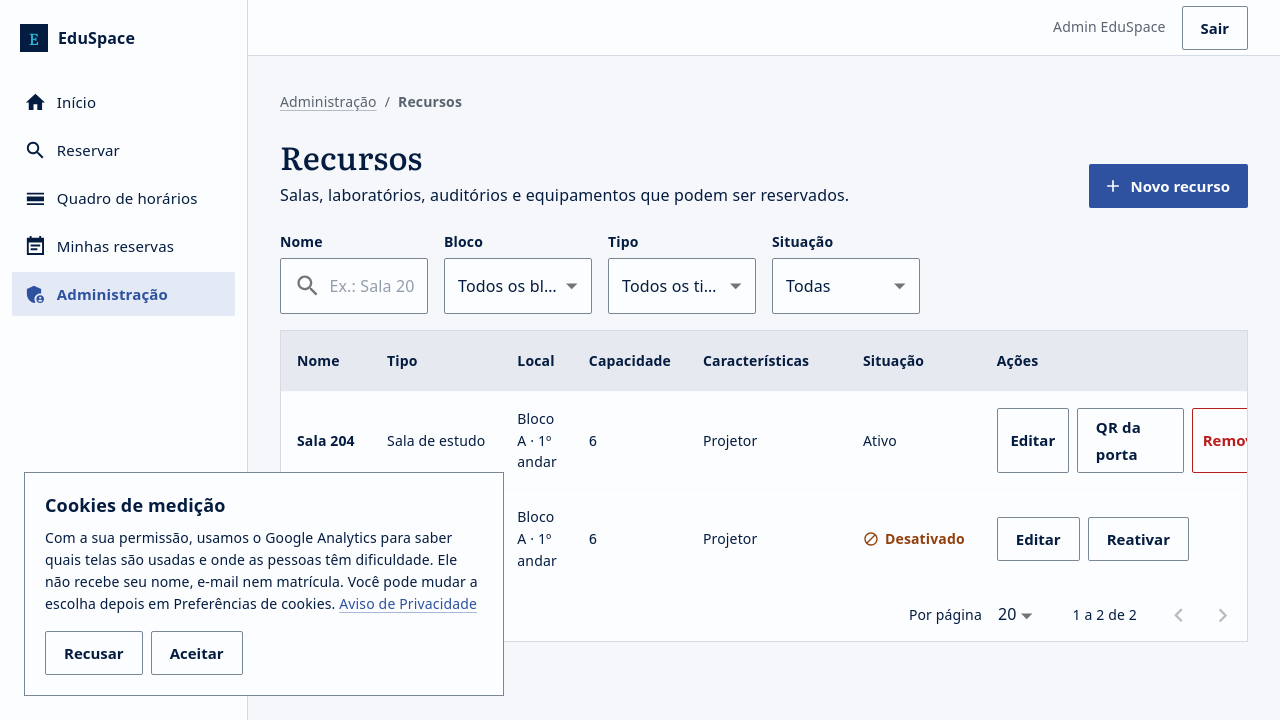
Test case: admin resources › asks before cancelling future reservations when removing
Click the button with aria-label "Remover Sala 204".
click(1236, 441)  # box x1=1192 y1=408 x2=1279 y2=473
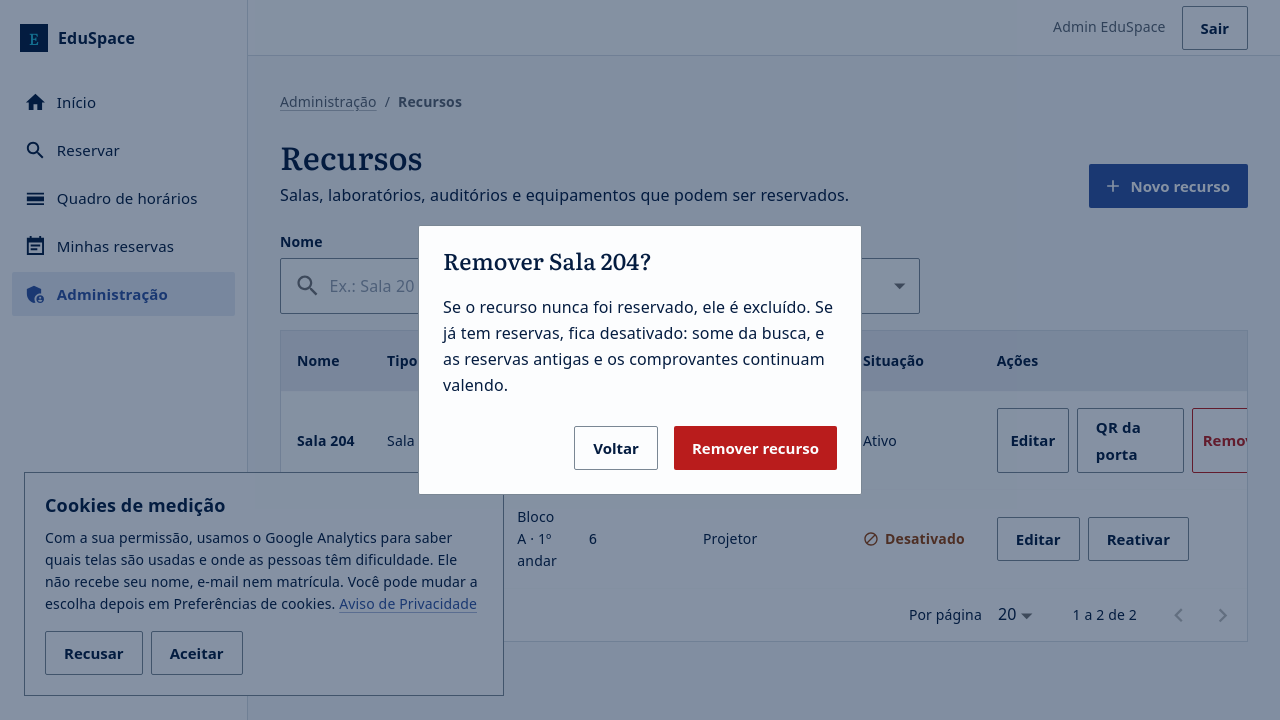
Click the button "Remover recurso".
click(755, 448)  # box x1=674 y1=426 x2=837 y2=470
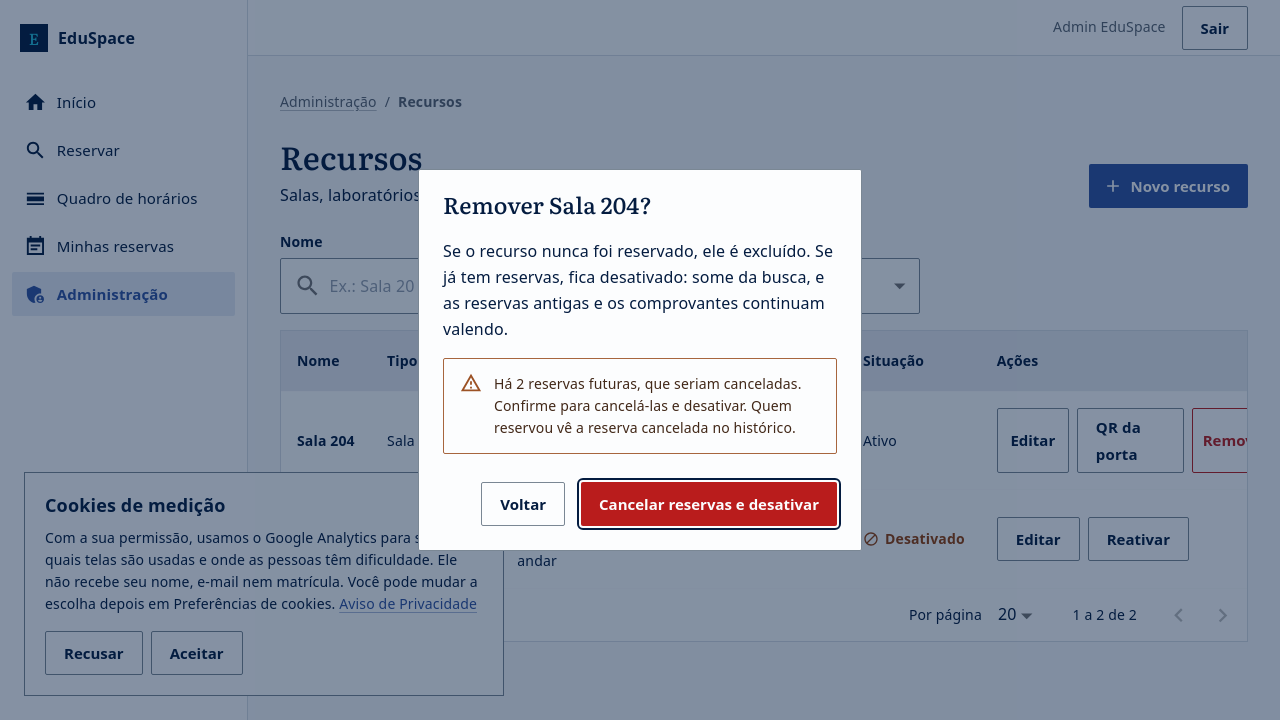
expect the message shows "Há 2 reservas futuras": met, box x1=494 y1=374 x2=802 y2=415
Click the button "Cancelar reservas e desativar".
click(709, 504)  # box x1=581 y1=482 x2=837 y2=526
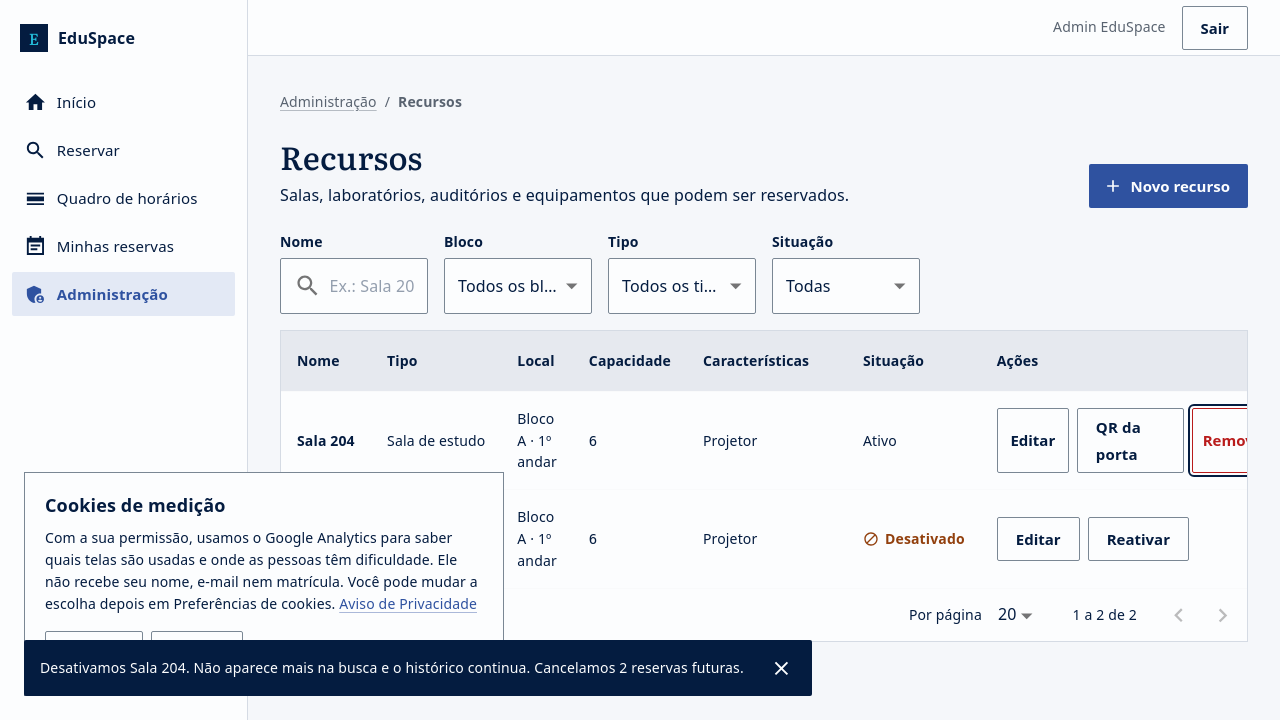
expect the dialog is gone: met
expect the message shows "Desativamos Sala 204. Não aparece mais na busca e o histórico continua. Cancelamos 2 reservas futuras.": met, box x1=40 y1=658 x2=744 y2=677
